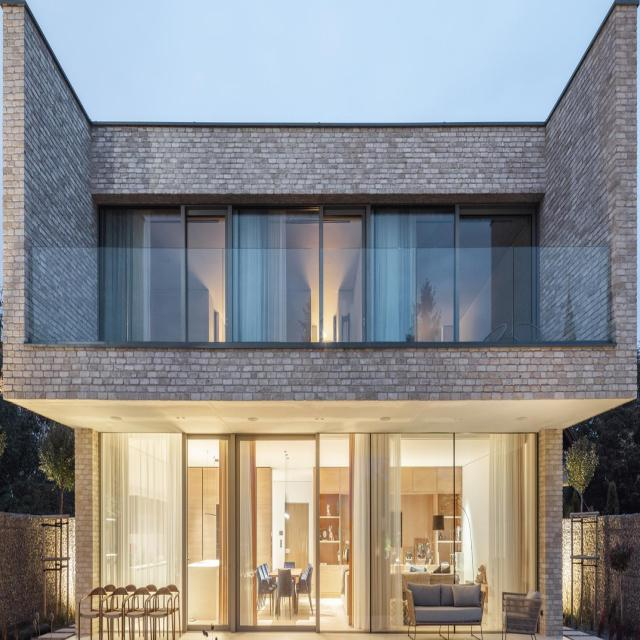door: (181, 430, 236, 634)
railing: (28, 245, 611, 347)
window: (99, 431, 541, 632), (97, 206, 536, 244), (561, 394, 640, 517), (0, 398, 75, 517)
